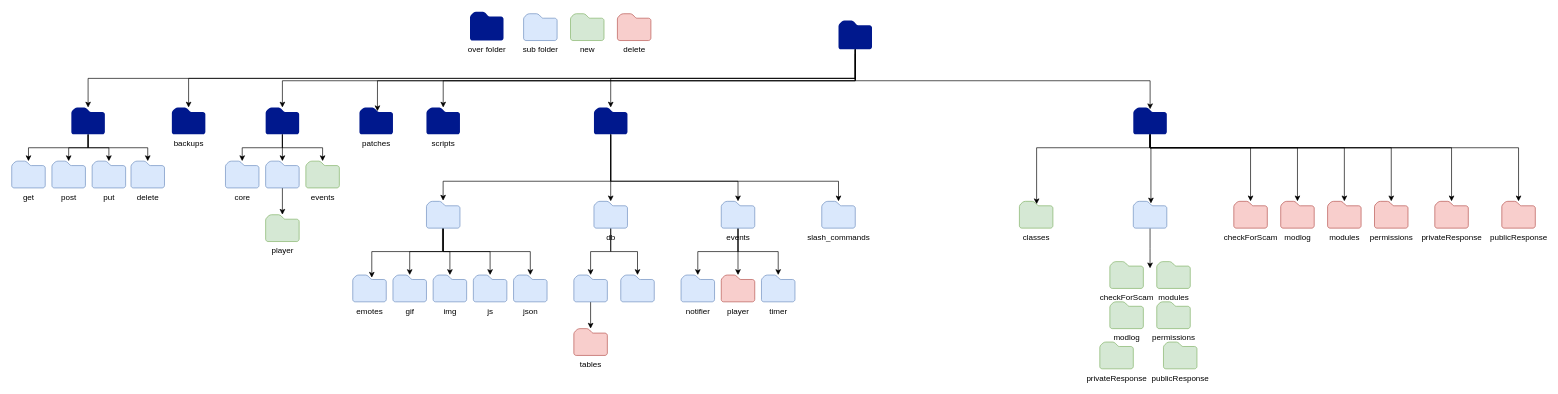
The diagram is 1558 pixels wide and 394 high, and some of its shapes have lost their labels. The shapes that lost their labels are listed below. From the top down, each one's box as (x1, y1, x2, y2) in pixels, then its label:
(838, 20, 872, 49): Root
(71, 107, 105, 134): api
(265, 107, 299, 134): bot
(594, 107, 627, 134): src
(1133, 107, 1166, 134): utils
(265, 160, 299, 188): ext_events
(426, 201, 460, 228): assets
(1133, 201, 1167, 228): functions
(573, 274, 607, 302): Models
(620, 274, 654, 302): data_migration
